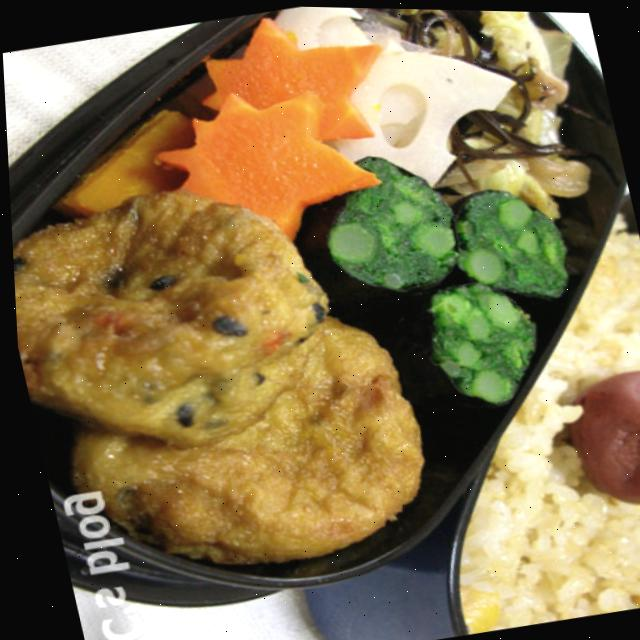熟制海鲜: (4, 97, 484, 622)
